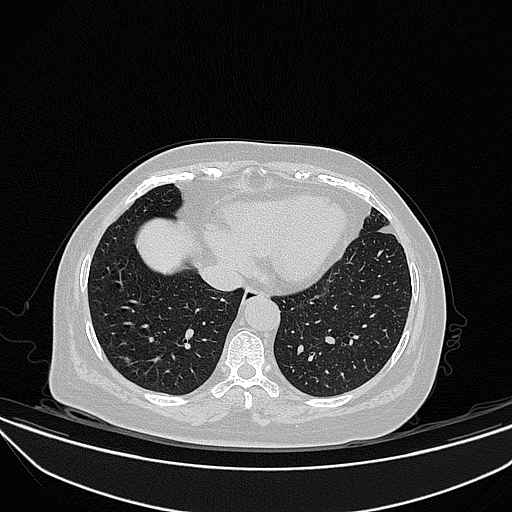nodule: (123, 356, 131, 362)
